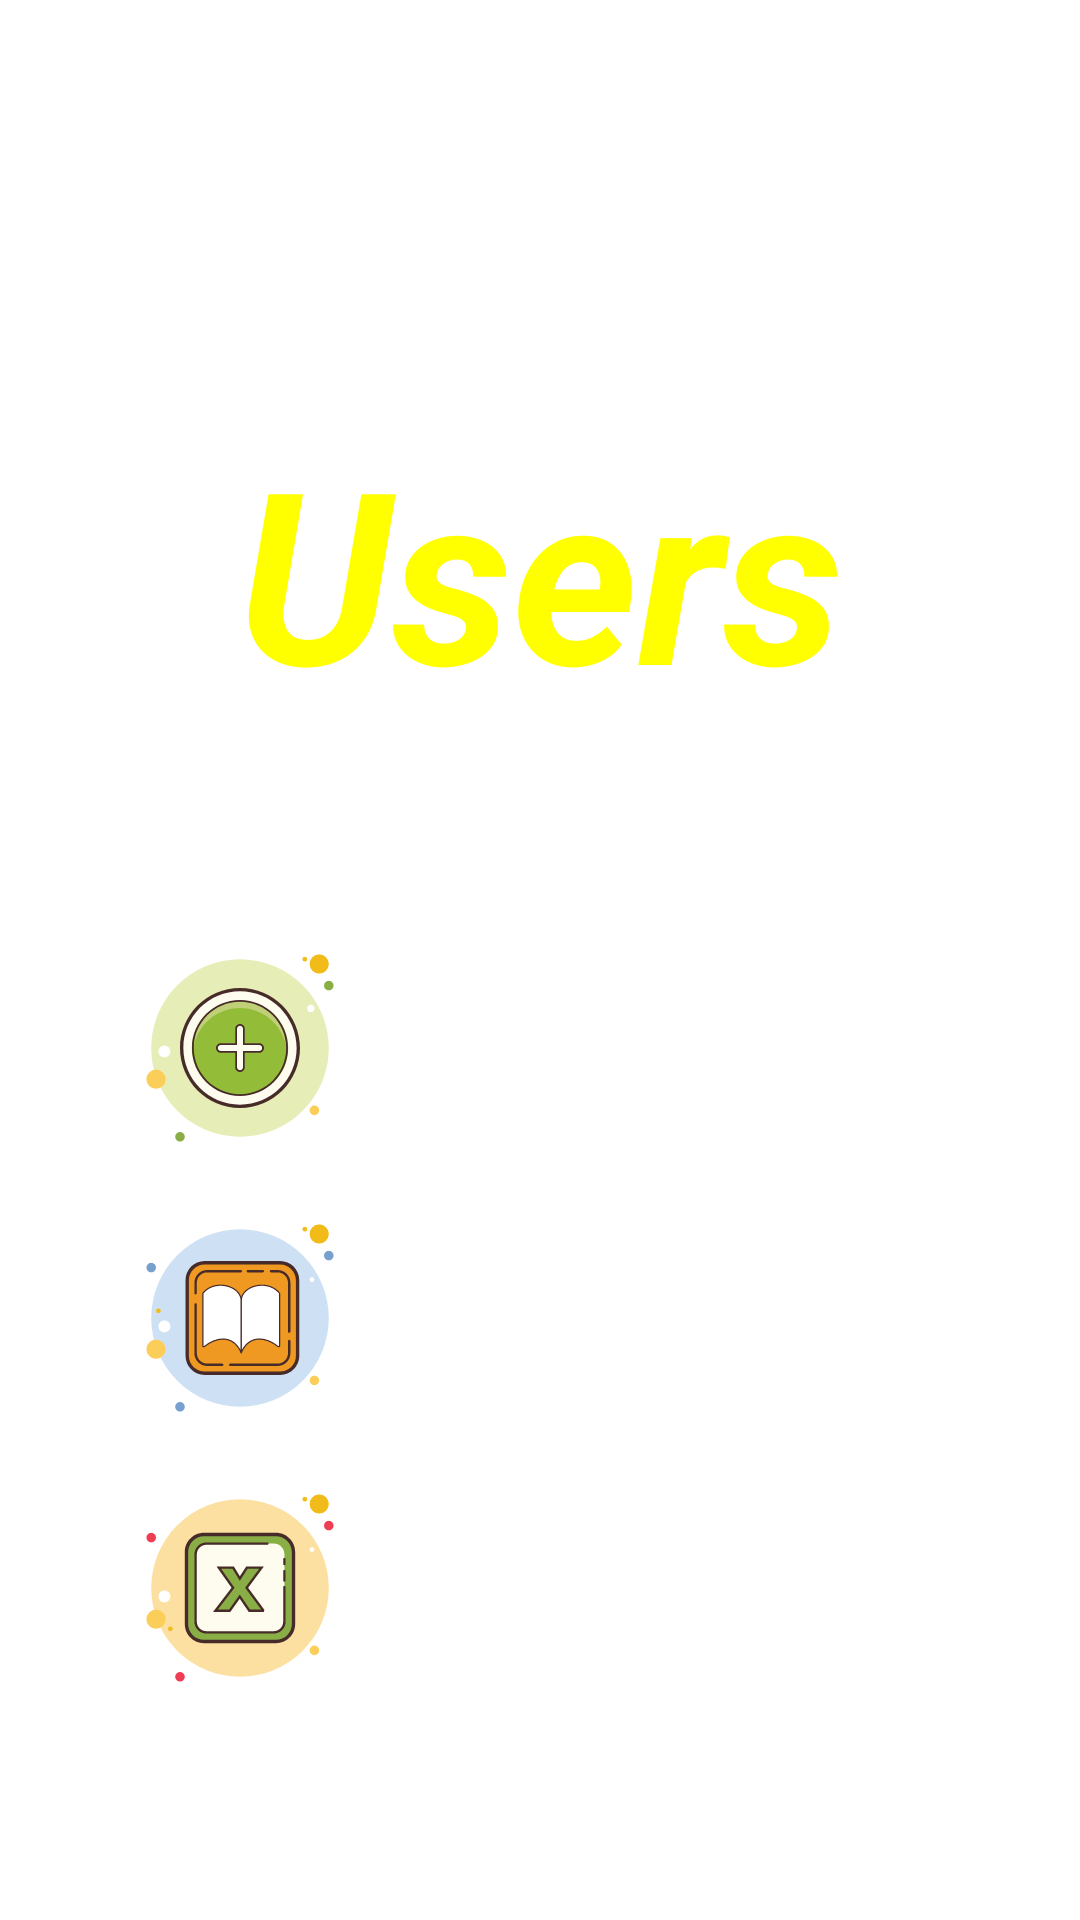

Icons on this 1080*1920 Android screen, each with its box as (x1, y1, x2, y2):
Add user: (146, 954, 334, 1142)
